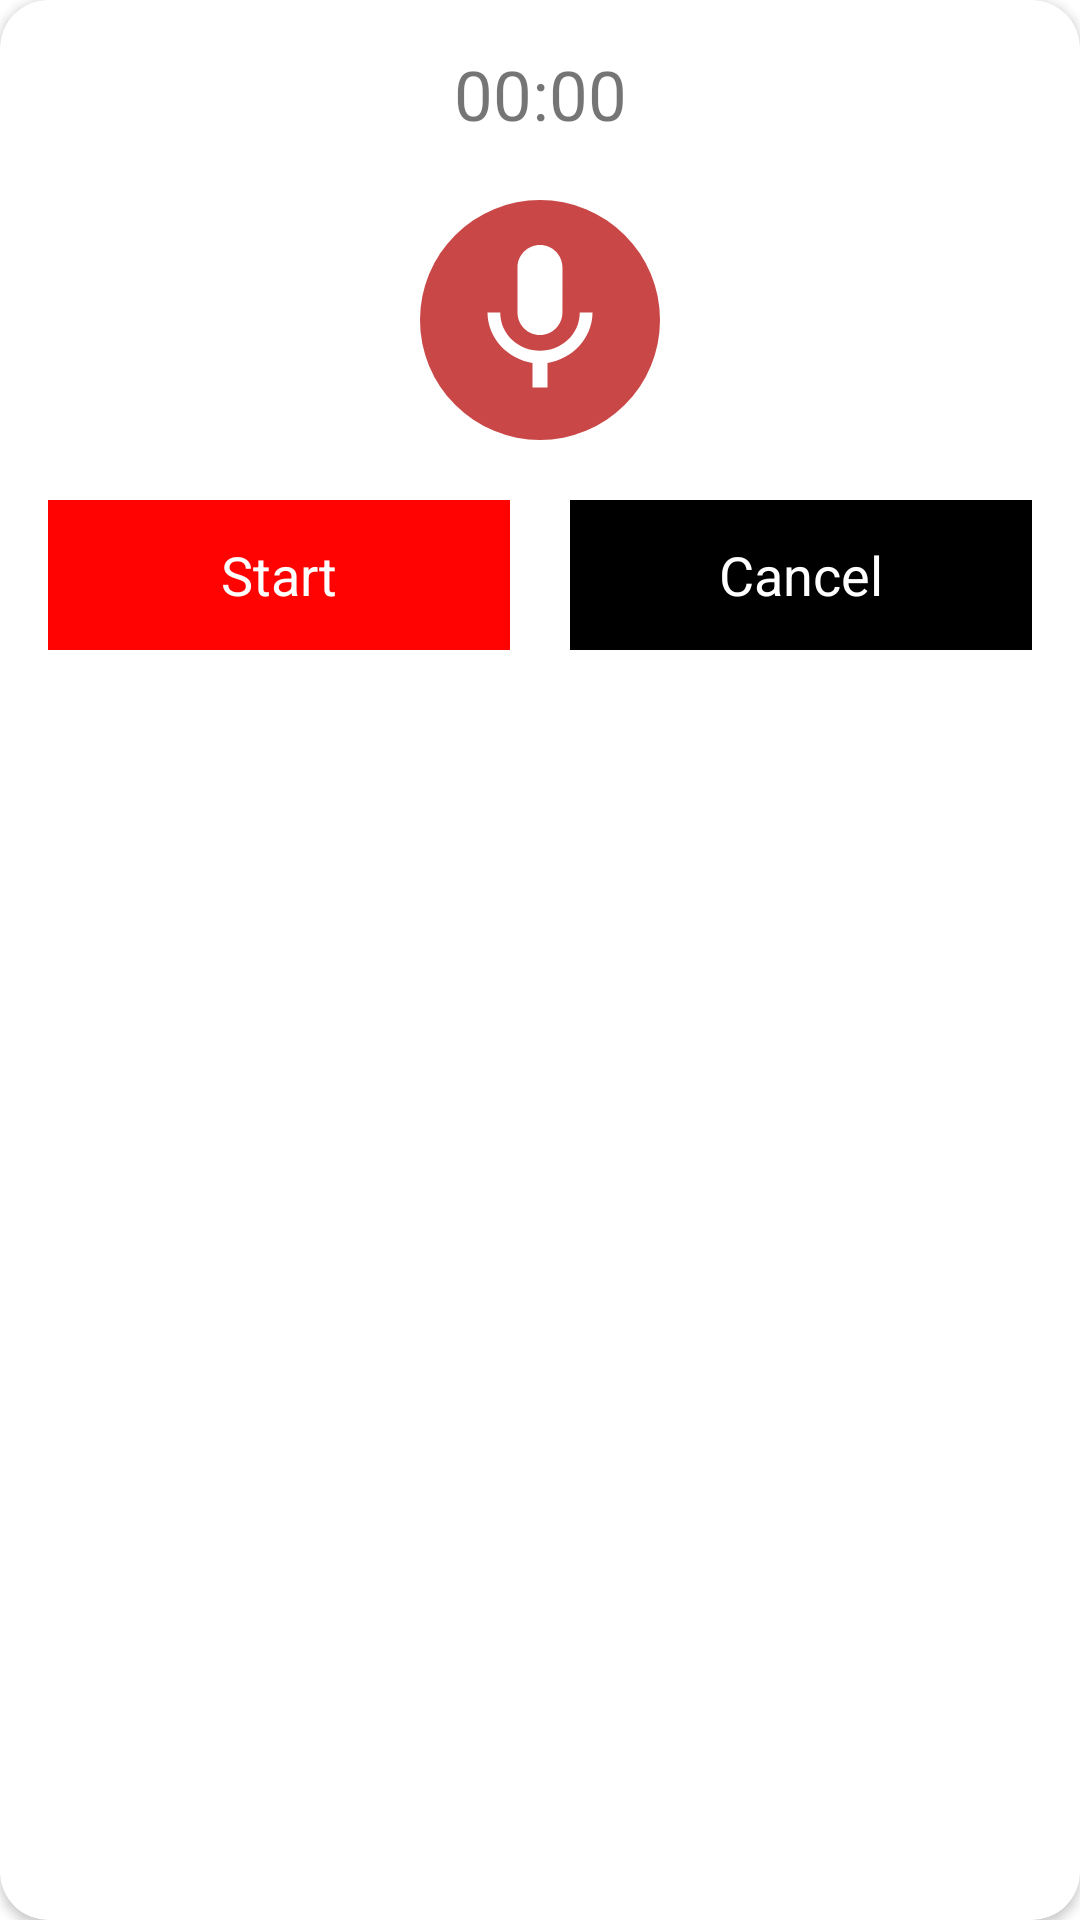

Icon click points for this 1080x1920 phone screenshot, format (x,y):
mic: (540,320)
